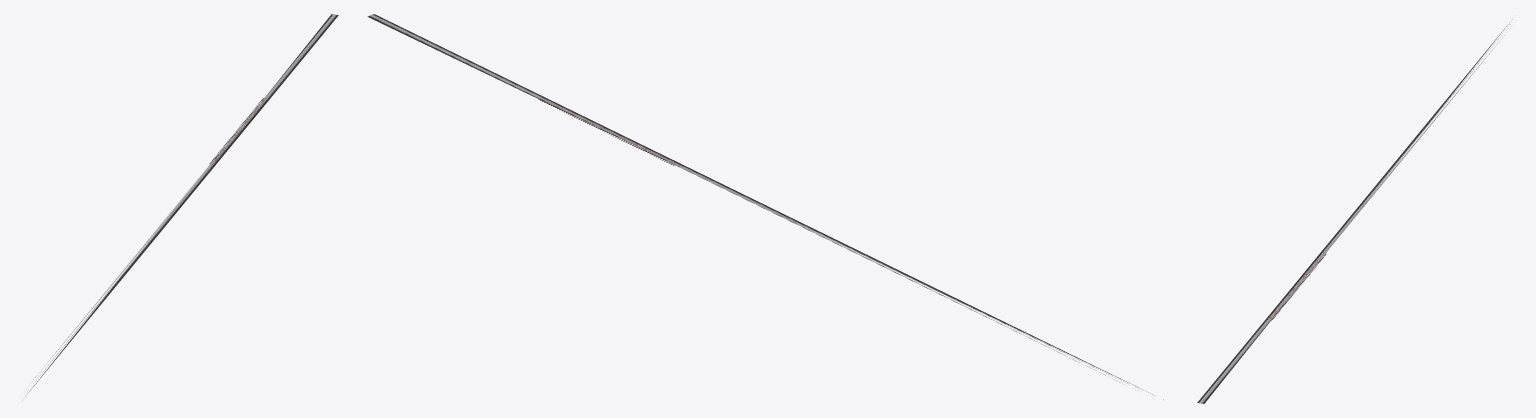
The picture shows the model from 3 angles, left to right: view 1: azimuth 90°, elevation 25°; view 2: azimuth 150°, elevation 25°; view 3: azimuth 270°, elevation 25°; orthographic projection. The views are drawn at different scales.
Bounding box in the file's own units: 302 × 0.1478 × 106.
